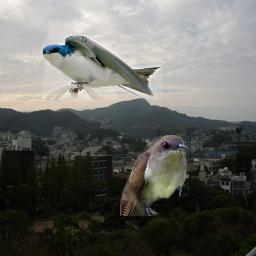Cuckoo: (120, 135, 190, 216)
Swallow: (42, 35, 162, 100)
